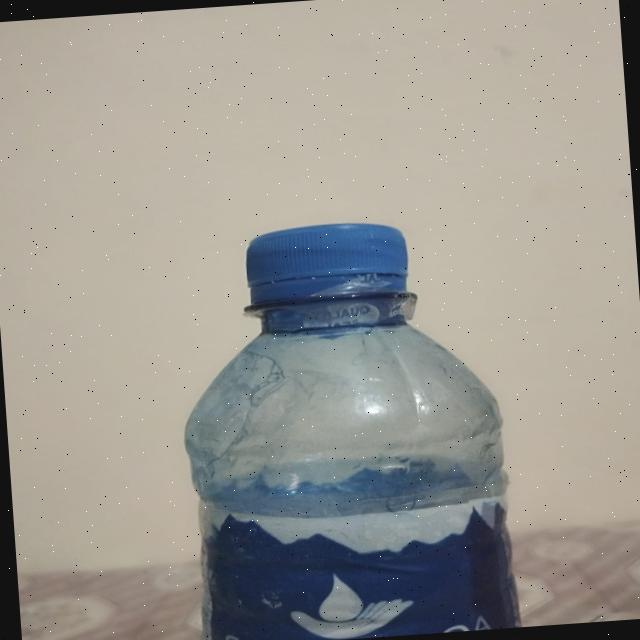cap: (242, 219, 414, 302)
label: (196, 492, 515, 640)
